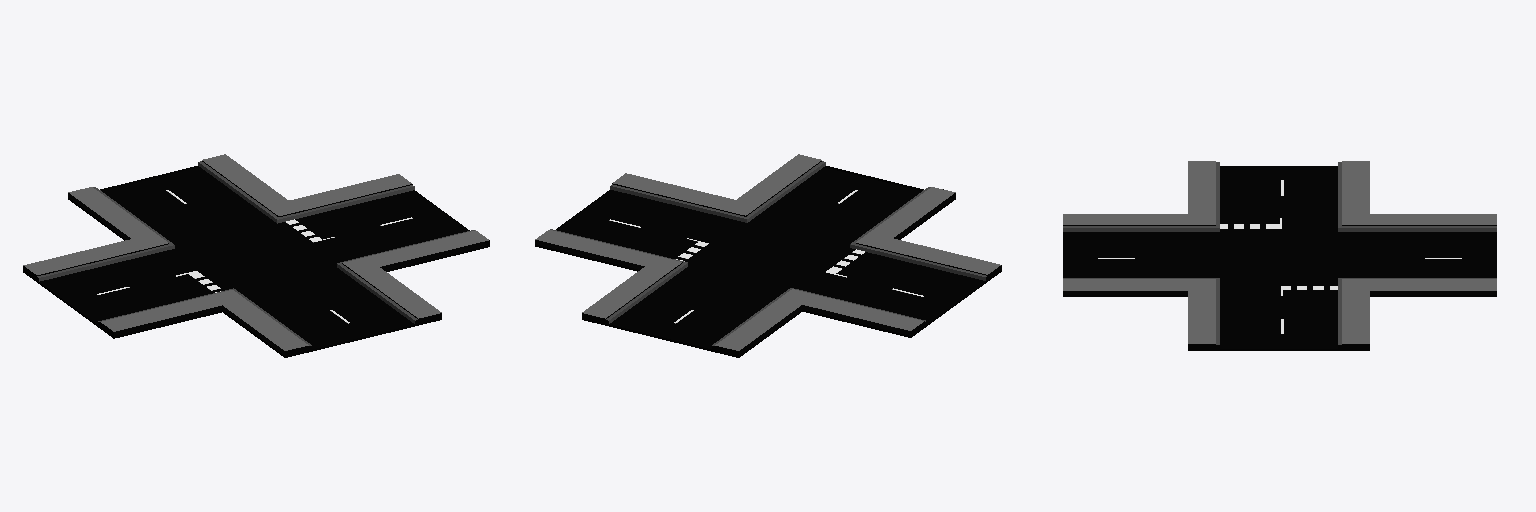
Rendered from road4intersectionCP2.obj.
3 views of the same model, side by side, from view 1: azimuth 30°, elevation 25°; view 2: azimuth 150°, elevation 25°; view 3: azimuth 270°, elevation 25° (orthographic).
Parts seen in each view (by area): view 1: road001, trot001, borrder; view 2: road001, trot001, borrder; view 3: road001, trot001, borrder.
Part boxes in pixels (bbox=[...]): road001: bbox=[23, 161, 489, 357]; trot001: bbox=[23, 154, 488, 350]; borrder: bbox=[37, 161, 474, 345]; road001: bbox=[535, 161, 1001, 357]; trot001: bbox=[535, 154, 1000, 350]; borrder: bbox=[550, 161, 986, 345]; road001: bbox=[1063, 166, 1496, 350]; trot001: bbox=[1063, 161, 1496, 343]; borrder: bbox=[1063, 162, 1496, 344].
Size of the model in its own units: 239 by 4.22 by 239.